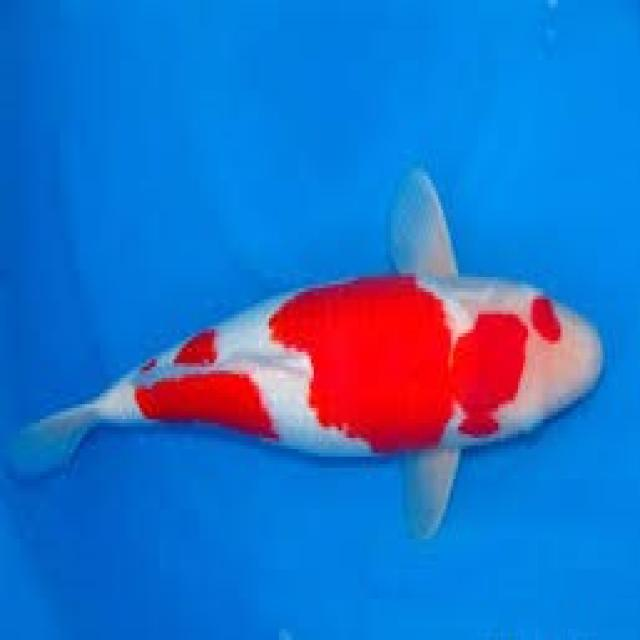Kohaku: (5, 161, 605, 539)
